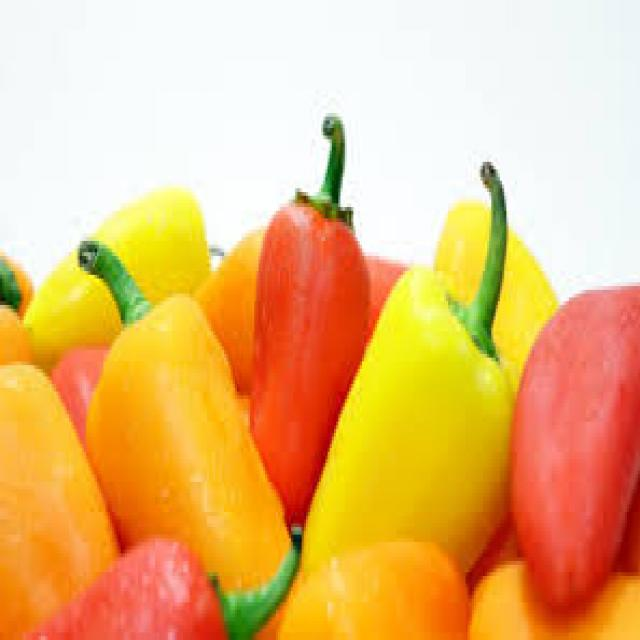organic waste: (293, 158, 511, 580), (76, 241, 296, 636), (248, 117, 368, 527), (506, 282, 638, 606), (19, 192, 209, 369), (0, 358, 119, 636), (26, 524, 299, 636), (431, 199, 558, 369), (274, 535, 470, 636), (465, 550, 638, 636), (196, 226, 263, 399), (47, 346, 108, 441), (360, 256, 409, 343), (0, 248, 32, 316), (0, 301, 32, 357)
